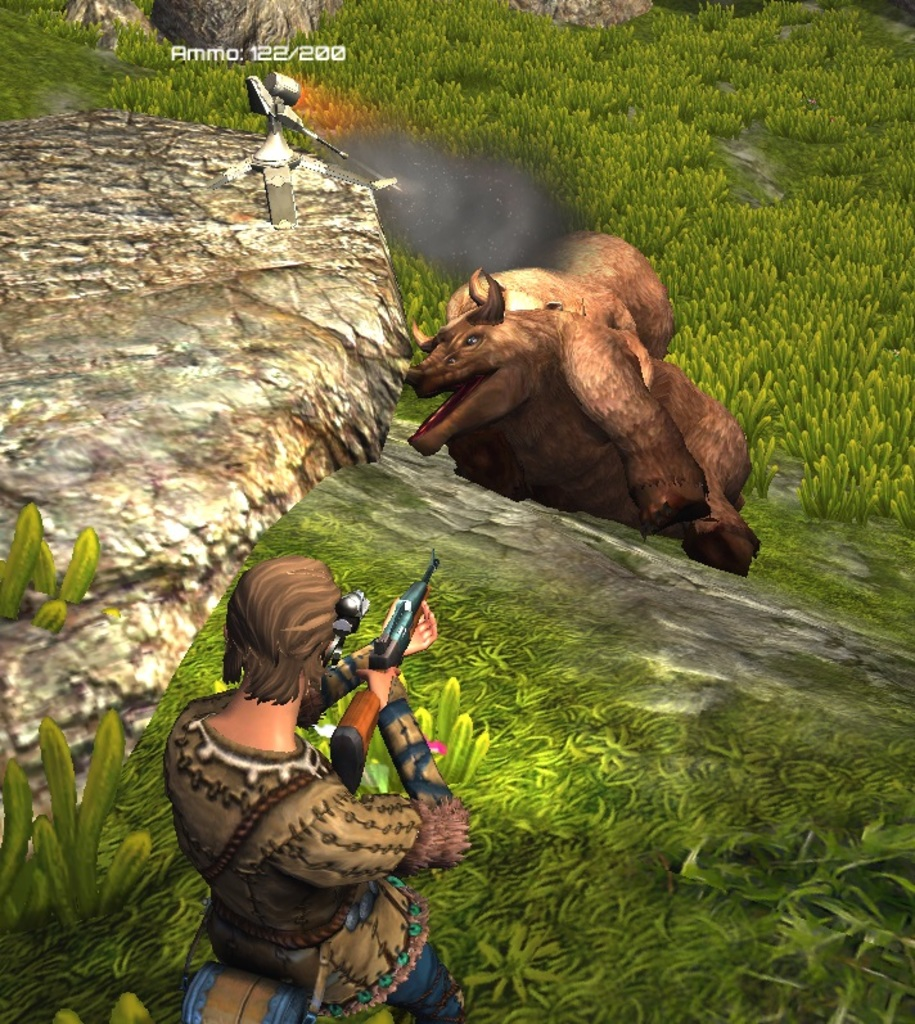Animal: (392, 264, 765, 568), (437, 221, 686, 352)
